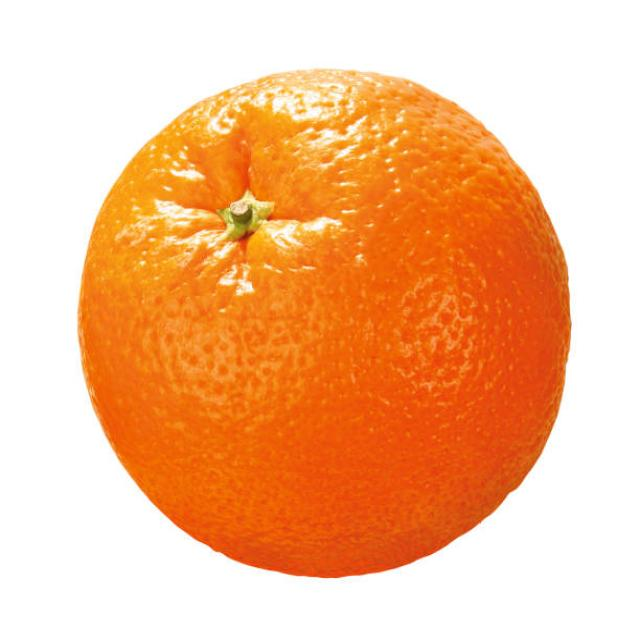Ripe: (71, 58, 574, 591)
